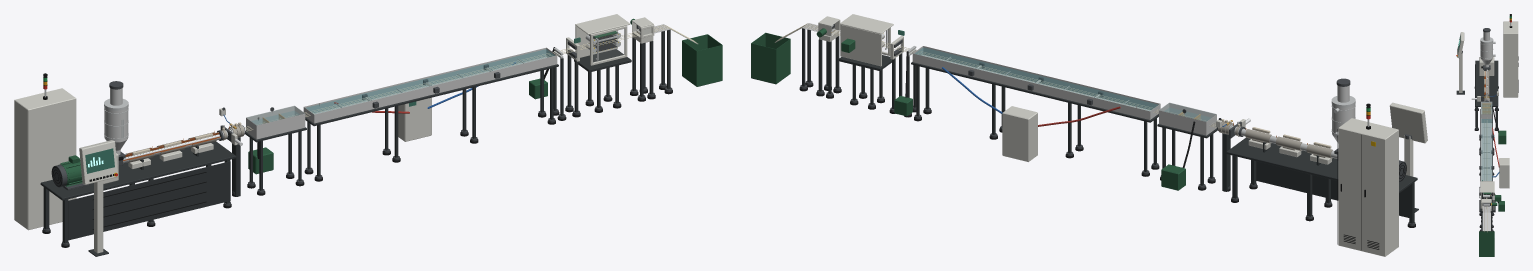
The model's file is straw-motion.glb.
3 renders of one model, left to right at view 1: azimuth 30°, elevation 25°; view 2: azimuth 150°, elevation 25°; view 3: azimuth 270°, elevation 25°, orthographic. The views are drawn at different scales.
Visible parts, largest first — view 1: Extruder, CoolingBath, Control cabinet, RotaryCutter, VacuumSizingTank, HaulOffFrame, Extruder hopper, Operator panel head, AdapterAndTubeHead, DiameterGauge, Operator panel stand; view 2: CoolingBath, Control cabinet, Extruder, RotaryCutter, HaulOffFrame, VacuumSizingTank, Operator panel head, Extruder hopper, AdapterAndTubeHead, DiameterGauge, Operator panel stand; view 3: CoolingBath, Control cabinet, Extruder, RotaryCutter, Extruder hopper, HaulOffFrame, VacuumSizingTank, Operator panel stand, Operator panel head, AdapterAndTubeHead.
Part boxes in pixels (x1,y1,x2,y2): Extruder: [40, 130, 236, 247]; CoolingBath: [303, 47, 566, 181]; Control cabinet: [14, 88, 76, 230]; RotaryCutter: [630, 17, 722, 101]; VacuumSizingTank: [245, 105, 306, 195]; HaulOffFrame: [574, 14, 631, 112]; Extruder hopper: [104, 81, 128, 160]; Operator panel head: [79, 140, 118, 184]; AdapterAndTubeHead: [219, 107, 246, 196]; DiameterGauge: [565, 37, 580, 117]; Operator panel stand: [88, 181, 108, 256]; CoolingBath: [894, 46, 1160, 176]; Control cabinet: [1337, 118, 1398, 256]; Extruder: [1226, 126, 1417, 227]; RotaryCutter: [751, 16, 841, 98]; HaulOffFrame: [838, 14, 893, 109]; VacuumSizingTank: [1157, 102, 1217, 190]; Operator panel head: [1389, 102, 1427, 143]; Extruder hopper: [1331, 78, 1355, 154]; AdapterAndTubeHead: [1216, 118, 1250, 191]; DiameterGauge: [889, 30, 904, 113]; Operator panel stand: [1404, 134, 1418, 212]; CoolingBath: [1479, 118, 1509, 218]; Control cabinet: [1503, 21, 1518, 97]; Extruder: [1474, 57, 1498, 130]; RotaryCutter: [1479, 199, 1497, 256]; Extruder hopper: [1480, 28, 1495, 69]; HaulOffFrame: [1479, 181, 1501, 231]; VacuumSizingTank: [1479, 101, 1506, 150]; Operator panel stand: [1456, 51, 1464, 94]; Operator panel head: [1456, 32, 1464, 58]; AdapterAndTubeHead: [1471, 91, 1498, 101].
Bounding box in the file's own units: 11.06 × 2.29 × 1.69.
